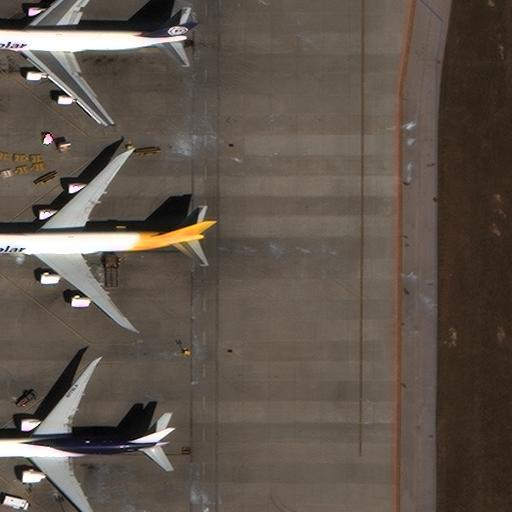Large Civil Transport: (0, 155, 204, 327), (0, 361, 169, 512), (0, 0, 187, 124)
